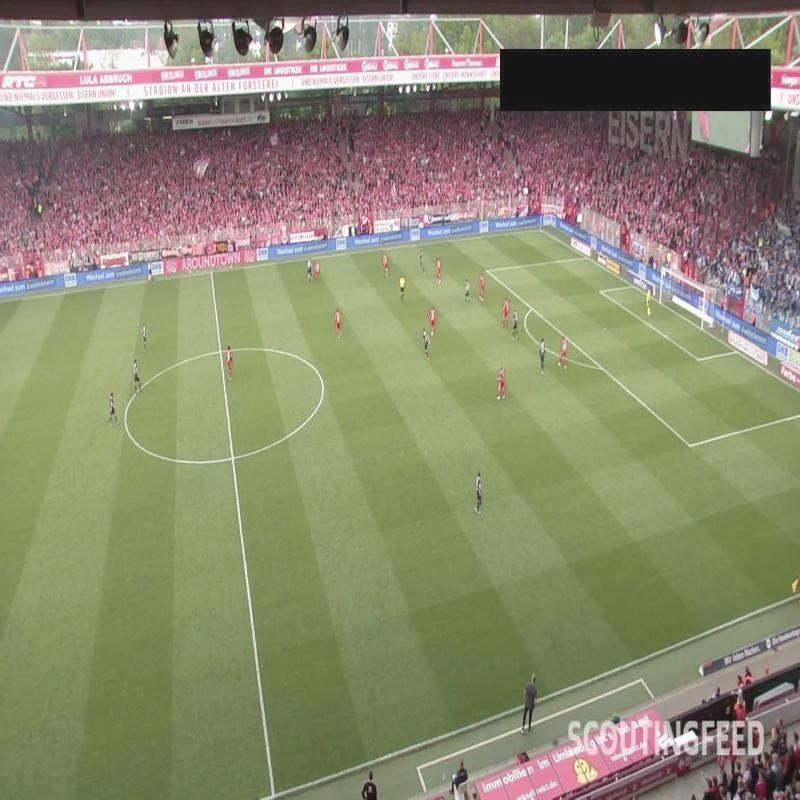1: (534, 224, 548, 238)
10: (525, 302, 539, 316)
11: (594, 358, 612, 380)
12: (682, 439, 696, 454)
13: (205, 267, 219, 281)
14: (212, 343, 226, 357)
15: (224, 450, 238, 464)
16: (263, 788, 284, 800)
2: (580, 251, 594, 264)
3: (625, 278, 639, 292)
4: (730, 345, 744, 359)
7: (594, 284, 608, 298)
8: (690, 354, 704, 368)
9: (480, 264, 494, 278)
c: (116, 413, 134, 426), (314, 376, 328, 390)
